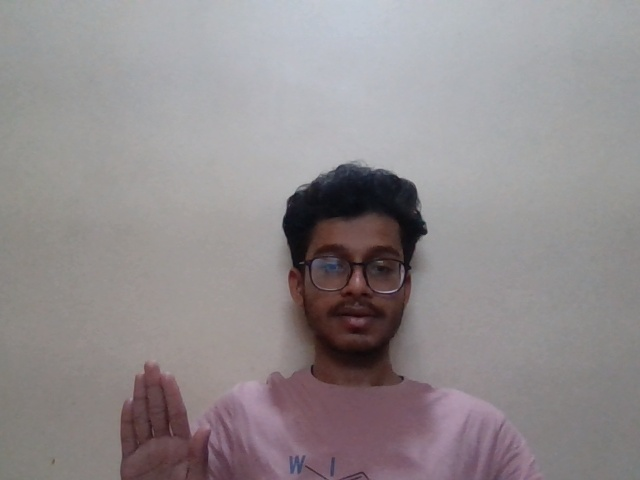hello: (107, 359, 223, 479)
